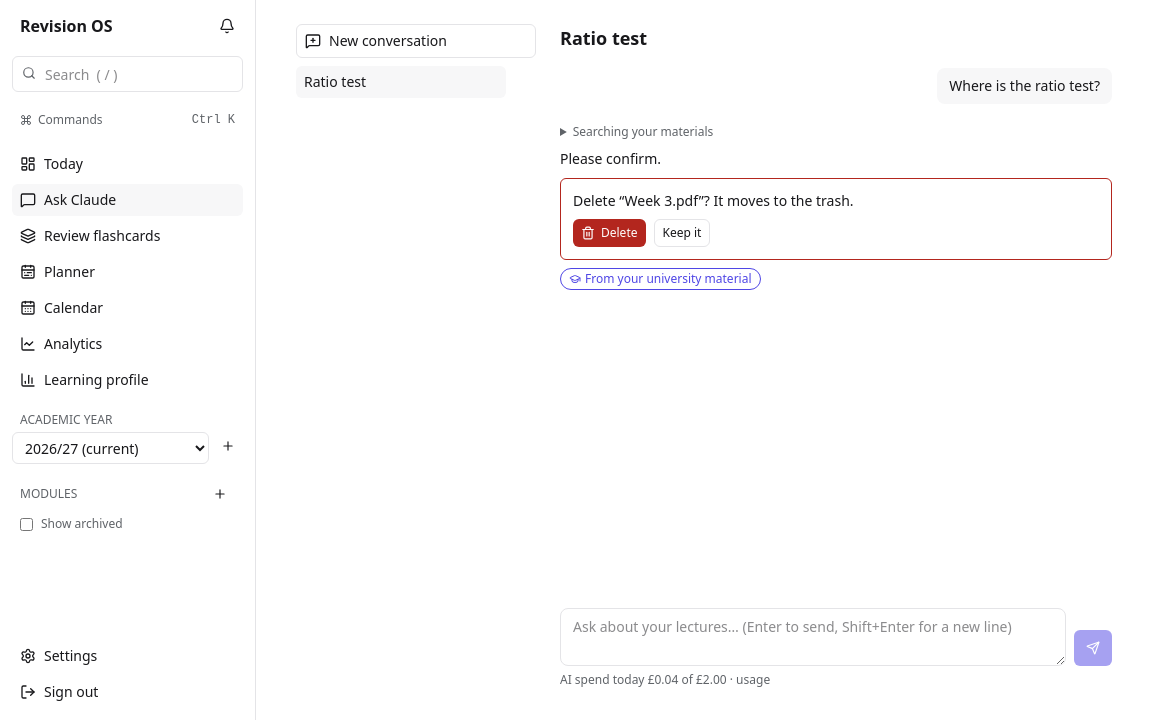
Test: assistant › asks you before deleting anything Claude requested
The width and height of the screenshot is (1152, 720).
Expected: the element named "Deletion request" shows "Delete “Week 3.pdf”?", [573,191,854,210]
Click the button "Delete": (609, 233) [573,219,646,247]
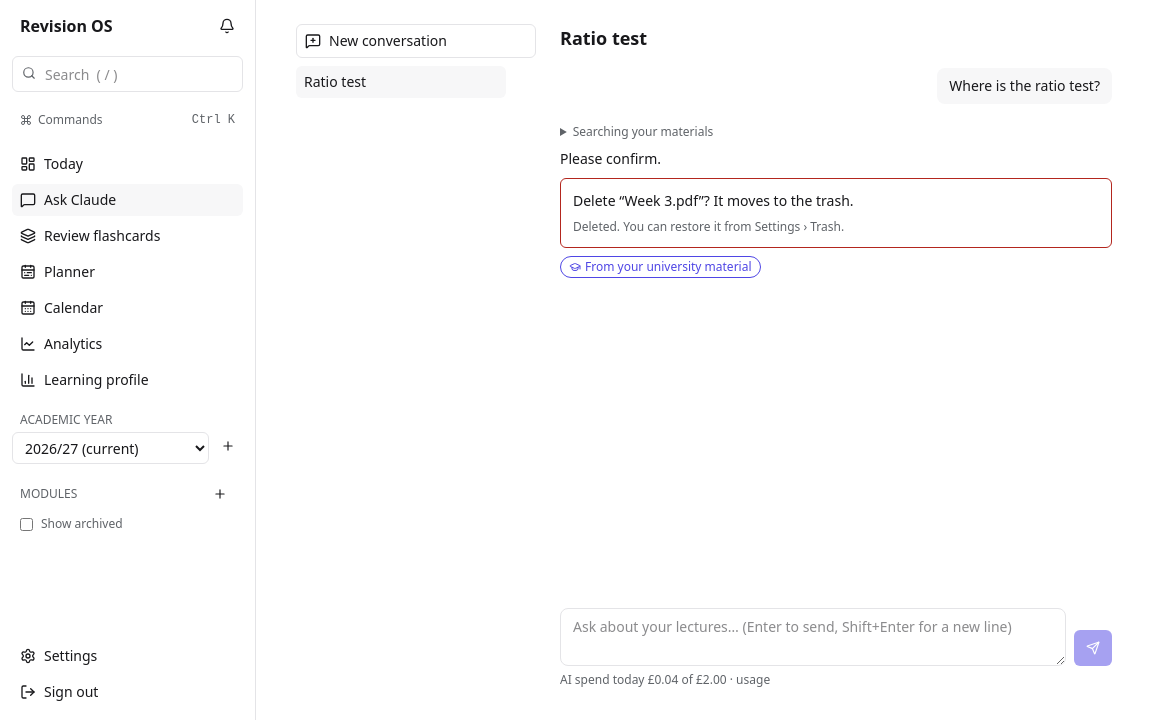
Expected: the text "Deleted. You can restore it from Settings › Trash." is shown, [573,218,844,235]
